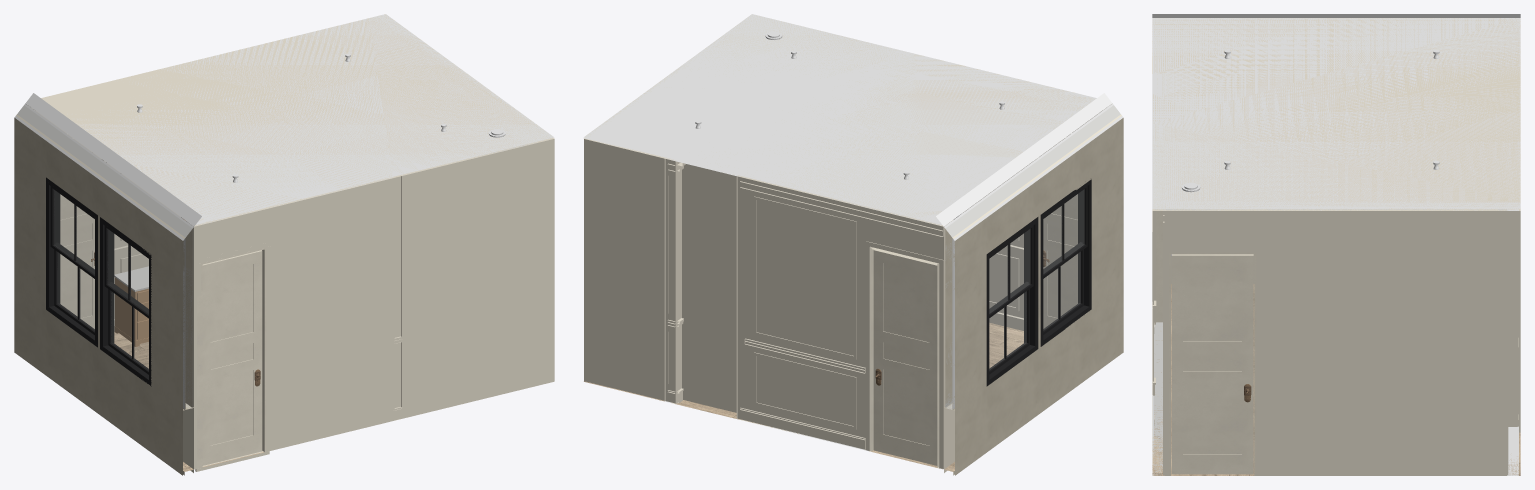
Rendered from green-bedroom-93dbd9a8ef7c.glb.
The picture shows the model from 3 angles, left to right: view 1: azimuth 30°, elevation 25°; view 2: azimuth 150°, elevation 25°; view 3: azimuth 270°, elevation 25°; orthographic projection. The views are drawn at different scales.
Visible parts, largest first — view 1: green-bedroom-eb02897c2e79e2b1, green-bedroom-e8793759323e04f0, green-bedroom-9d91b47435c6fb33, green-bedroom-312b4ac1be39223d, green-bedroom-7406100458e293ce, green-bedroom-33ee0b466567e5f0, green-bedroom-eea30be35ce76d8a, green-bedroom-b27266f3159d5f34, green-bedroom-5e646f76b0244fe8, green-bedroom-39b94aca90fa4b53, green-bedroom-3a4d9d62ecd7be1c, green-bedroom-442e5a19ed849720 (+5 smaller); view 2: green-bedroom-9d91b47435c6fb33, green-bedroom-b6ab44e8ab2b63f4, green-bedroom-8d8280a2b3ef8b4c, green-bedroom-312b4ac1be39223d, green-bedroom-e8793759323e04f0, green-bedroom-689020e0fc226264, green-bedroom-5e646f76b0244fe8, green-bedroom-33ee0b466567e5f0, green-bedroom-eea30be35ce76d8a, green-bedroom-b27266f3159d5f34, green-bedroom-7406100458e293ce, green-bedroom-4fe5579be934d30a (+9 smaller); view 3: green-bedroom-64efeecf845bccca, green-bedroom-9d91b47435c6fb33, green-bedroom-e8793759323e04f0, green-bedroom-b50904fb6ee0544e, green-bedroom-eb02897c2e79e2b1, green-bedroom-689020e0fc226264, green-bedroom-34287d1b870c745c, green-bedroom-2575515a05775d9e, green-bedroom-442e5a19ed849720, green-bedroom-8d8280a2b3ef8b4c, green-bedroom-4fe5579be934d30a.
Boxes of the visible parts, x1=… form: green-bedroom-eb02897c2e79e2b1: x1=188, y1=139, x2=554, y2=469; green-bedroom-e8793759323e04f0: x1=27, y1=14, x2=552, y2=224; green-bedroom-9d91b47435c6fb33: x1=25, y1=14, x2=554, y2=226; green-bedroom-312b4ac1be39223d: x1=14, y1=116, x2=184, y2=409; green-bedroom-7406100458e293ce: x1=202, y1=250, x2=262, y2=465; green-bedroom-33ee0b466567e5f0: x1=14, y1=287, x2=193, y2=475; green-bedroom-eea30be35ce76d8a: x1=46, y1=177, x2=97, y2=347; green-bedroom-b27266f3159d5f34: x1=100, y1=217, x2=151, y2=386; green-bedroom-5e646f76b0244fe8: x1=60, y1=138, x2=100, y2=328; green-bedroom-39b94aca90fa4b53: x1=17, y1=105, x2=192, y2=409; green-bedroom-3a4d9d62ecd7be1c: x1=24, y1=103, x2=193, y2=407; green-bedroom-442e5a19ed849720: x1=201, y1=247, x2=266, y2=467; green-bedroom-9d91b47435c6fb33: x1=583, y1=14, x2=1112, y2=226; green-bedroom-b6ab44e8ab2b63f4: x1=736, y1=176, x2=949, y2=469; green-bedroom-8d8280a2b3ef8b4c: x1=584, y1=138, x2=681, y2=403; green-bedroom-312b4ac1be39223d: x1=953, y1=116, x2=1123, y2=409; green-bedroom-e8793759323e04f0: x1=585, y1=15, x2=1110, y2=224; green-bedroom-689020e0fc226264: x1=676, y1=160, x2=737, y2=418; green-bedroom-5e646f76b0244fe8: x1=873, y1=250, x2=937, y2=465; green-bedroom-33ee0b466567e5f0: x1=944, y1=287, x2=1123, y2=475; green-bedroom-eea30be35ce76d8a: x1=986, y1=217, x2=1038, y2=386; green-bedroom-b27266f3159d5f34: x1=1040, y1=179, x2=1091, y2=346; green-bedroom-7406100458e293ce: x1=1039, y1=137, x2=1077, y2=328; green-bedroom-4fe5579be934d30a: x1=664, y1=158, x2=676, y2=403; green-bedroom-64efeecf845bccca: x1=1163, y1=209, x2=1508, y2=475; green-bedroom-9d91b47435c6fb33: x1=1152, y1=18, x2=1520, y2=210; green-bedroom-e8793759323e04f0: x1=1152, y1=14, x2=1520, y2=209; green-bedroom-b50904fb6ee0544e: x1=1171, y1=254, x2=1253, y2=474; green-bedroom-eb02897c2e79e2b1: x1=1152, y1=209, x2=1164, y2=475; green-bedroom-689020e0fc226264: x1=1508, y1=211, x2=1518, y2=426; green-bedroom-34287d1b870c745c: x1=1169, y1=252, x2=1256, y2=475; green-bedroom-2575515a05775d9e: x1=1152, y1=284, x2=1520, y2=475; green-bedroom-442e5a19ed849720: x1=1156, y1=211, x2=1162, y2=322; green-bedroom-8d8280a2b3ef8b4c: x1=1507, y1=209, x2=1518, y2=475; green-bedroom-4fe5579be934d30a: x1=1519, y1=211, x2=1520, y2=432.
Size of the model in its own units: 4.64 by 3.04 by 3.65.
Materials: 33 (5 with a texture image).
